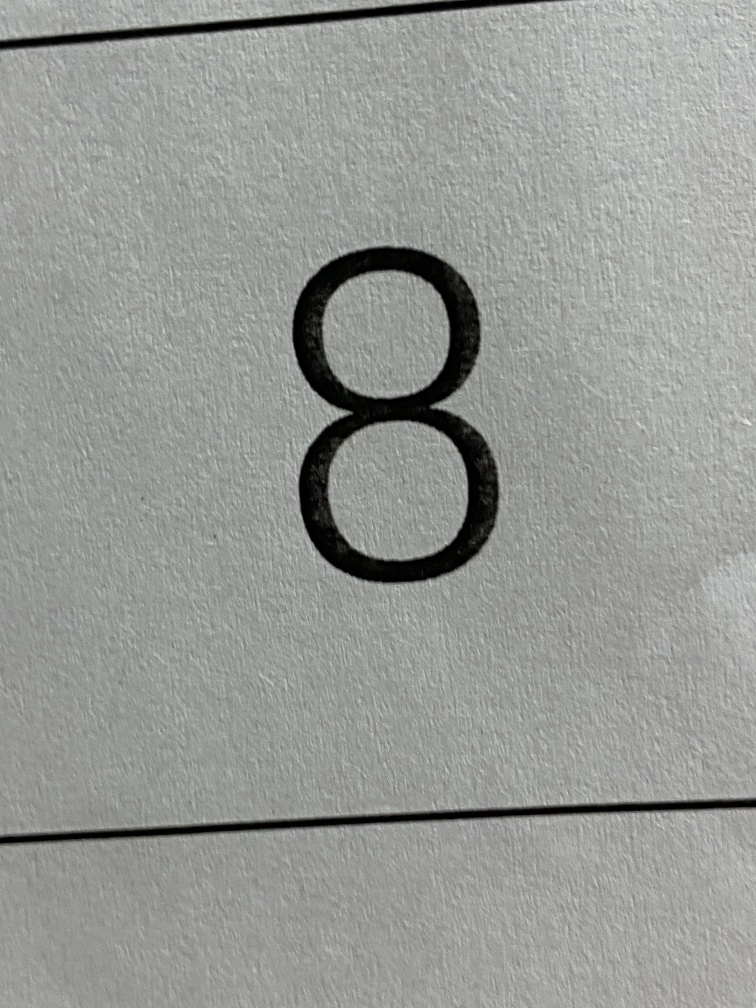eight: (221, 195, 576, 640)
